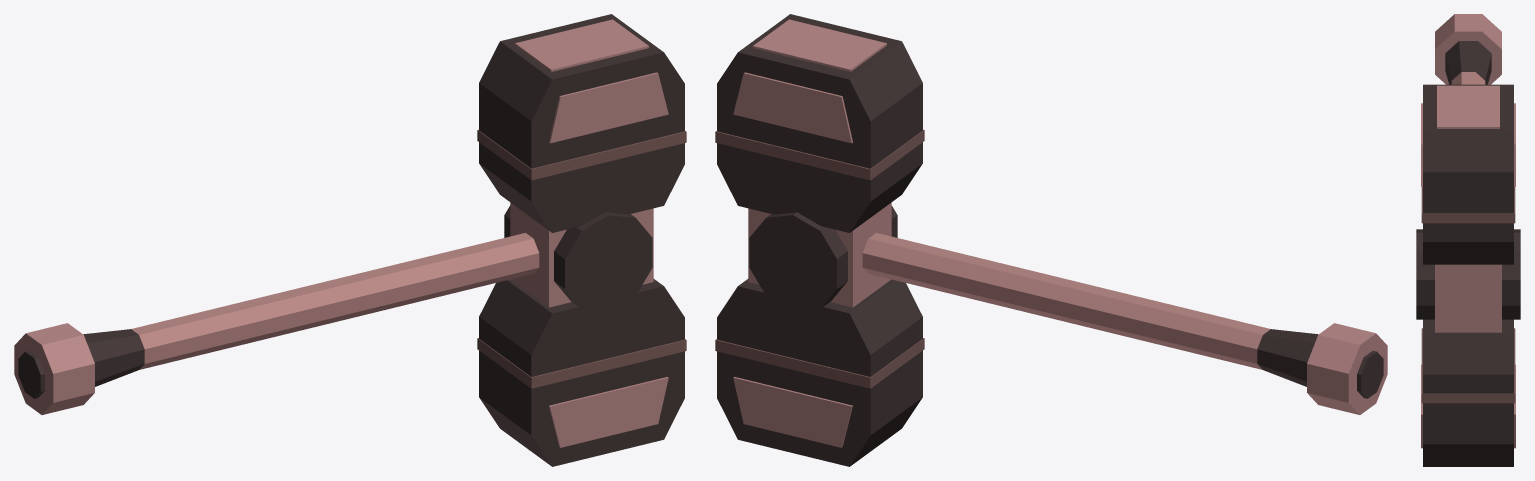
The model's file is persona_zeushammer.obj.
3 views of the same model, side by side, from view 1: azimuth 30°, elevation 25°; view 2: azimuth 150°, elevation 25°; view 3: azimuth 270°, elevation 25° (orthographic). The views are drawn at different scales.
Parts seen in each view (by area): view 1: persona_zeushammer; view 2: persona_zeushammer; view 3: persona_zeushammer.
Boxes of the visible parts, x1,y1,x2,y2 form: persona_zeushammer: [14, 14, 686, 466]; persona_zeushammer: [715, 14, 1387, 466]; persona_zeushammer: [1416, 14, 1520, 466].
Bounding box in the file's own units: 0.902 × 0.536 × 0.15.
